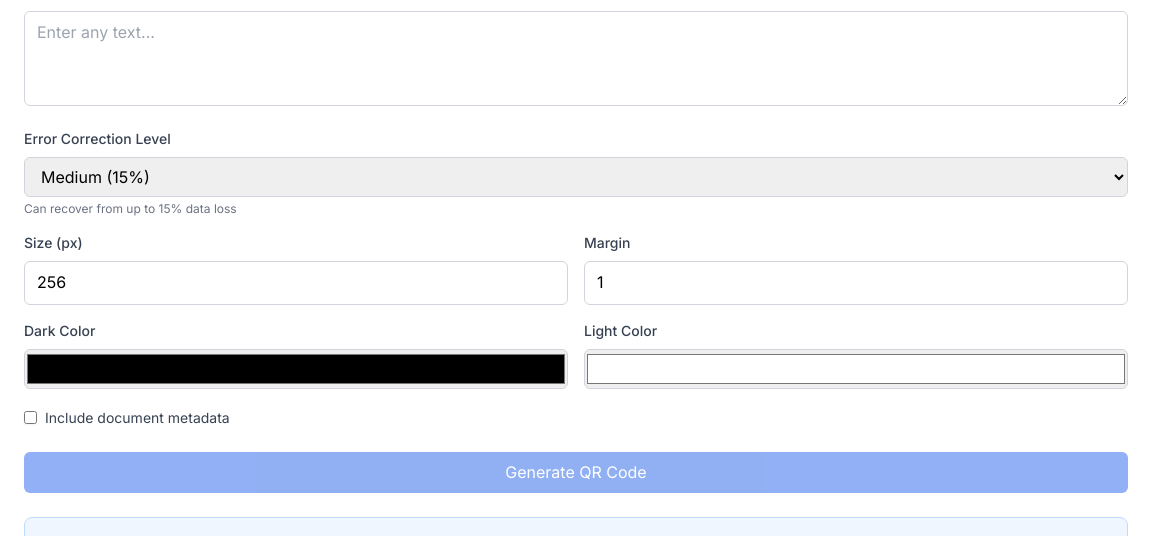
Test: QRCodeGenerator › shows metadata when included
// Enter data and enable metadata
Type "Test data" into the text box labelled "Data to Encode". click: (576, 58)
box: [24,11,1128,106]
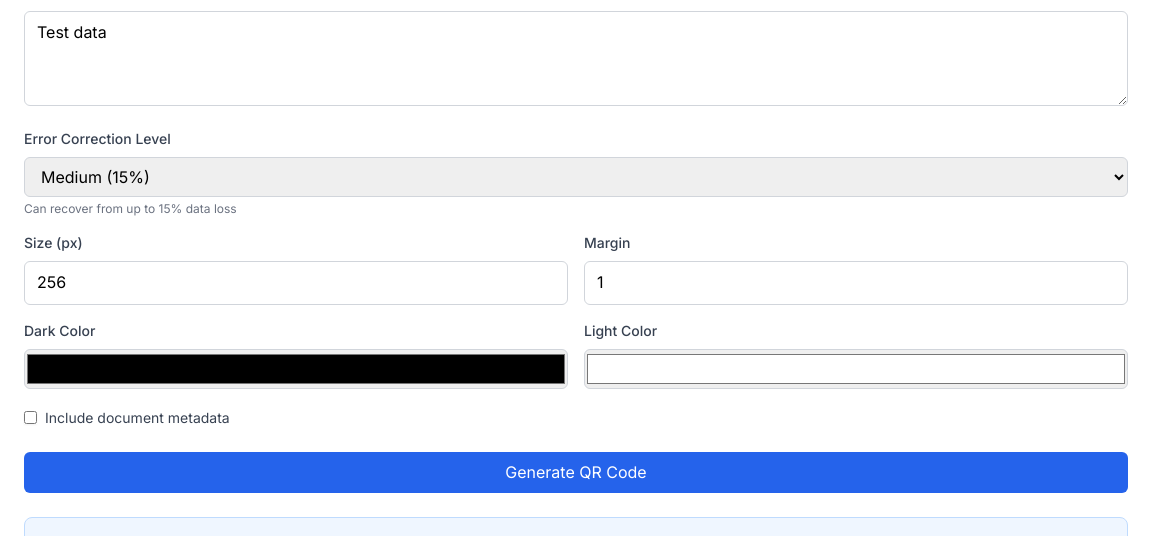
Click the checkbox labelled "Include document metadata". click: (30, 418)
box: [24,411,37,424]
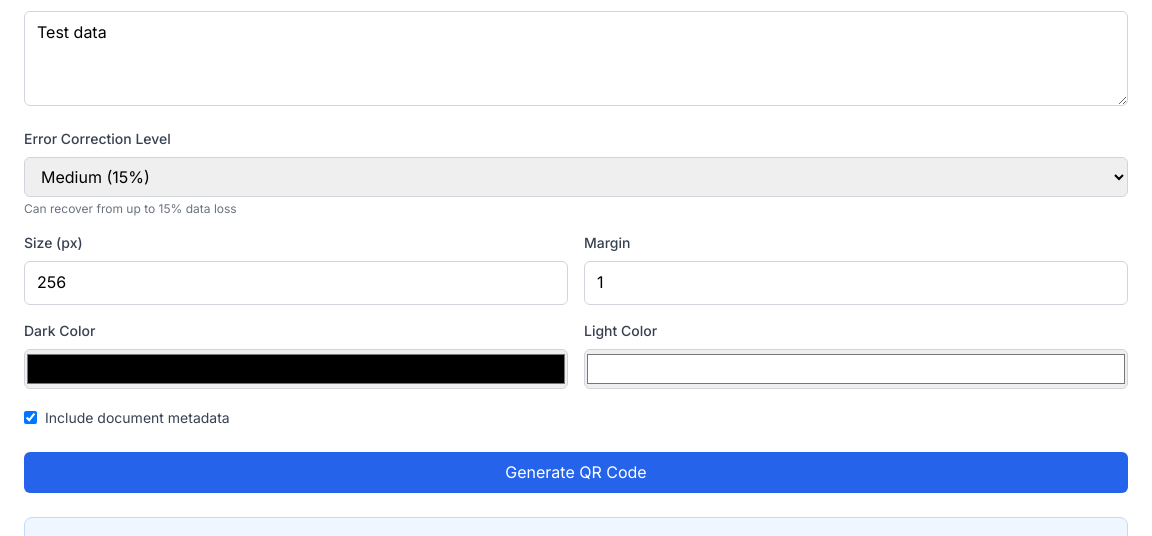
Click the button "Generate QR Code". click: (576, 472)
box: [24,452,1128,493]
(page scrolled)
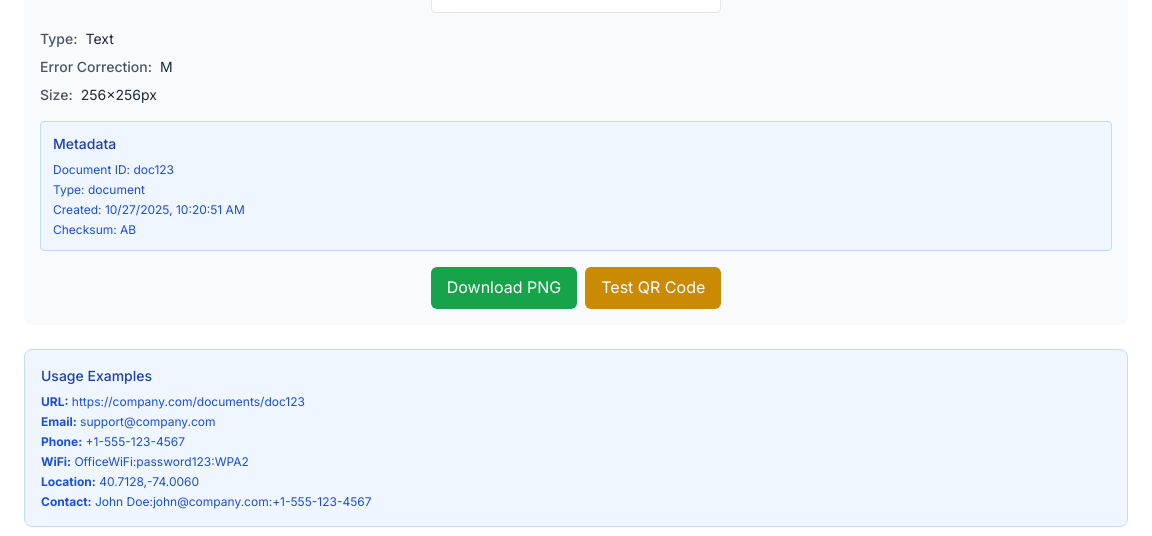
Check: the heading "Metadata" is shown, box [53,135,116,152]
Check: the text "Document ID: doc123" is shown, box [53,162,174,177]
Check: the text "Type:" is shown, box [40,30,78,47]
